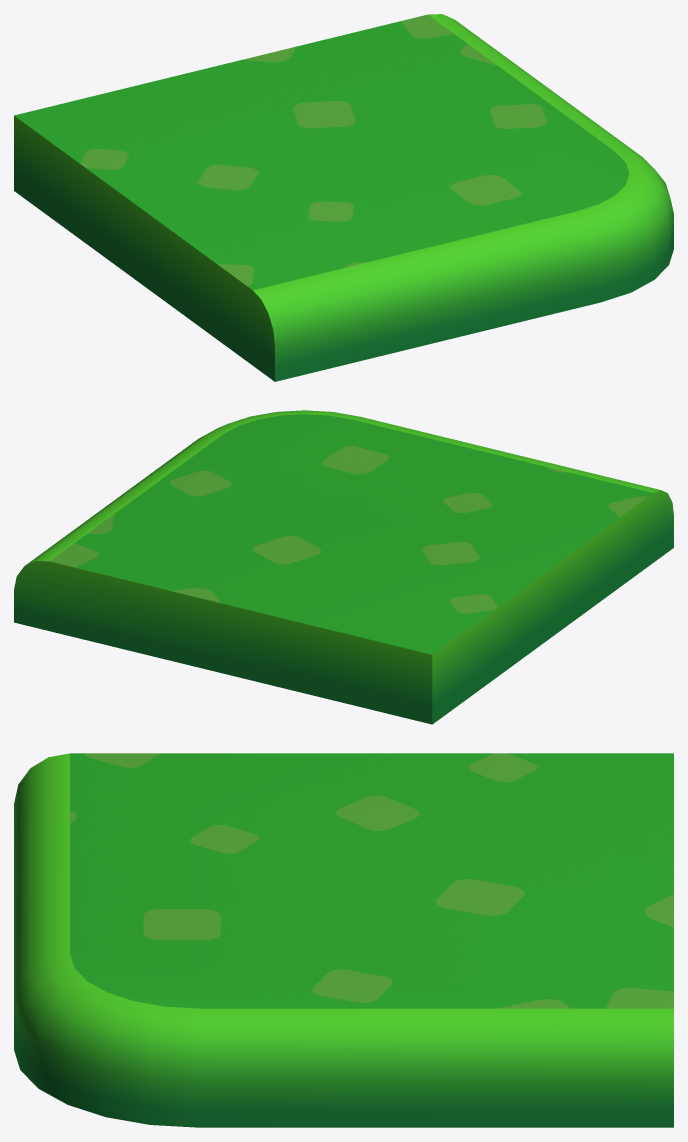
The model's file is GrassFloor_Corner_2.fbx.
3 views of the same model, one above another, from view 1: azimuth 30°, elevation 25°; view 2: azimuth 150°, elevation 25°; view 3: azimuth 270°, elevation 25° (orthographic). The views are drawn at different scales.
Visible parts, largest first — view 1: GrassFloor_Corner_2; view 2: GrassFloor_Corner_2; view 3: GrassFloor_Corner_2.
Part boxes in pixels (left/top/right/bottom): GrassFloor_Corner_2: left=14, top=14, right=673, bottom=381; GrassFloor_Corner_2: left=14, top=410, right=673, bottom=724; GrassFloor_Corner_2: left=14, top=753, right=673, bottom=1127.
Bounding box in the file's own units: 200 × 31.87 × 200.
